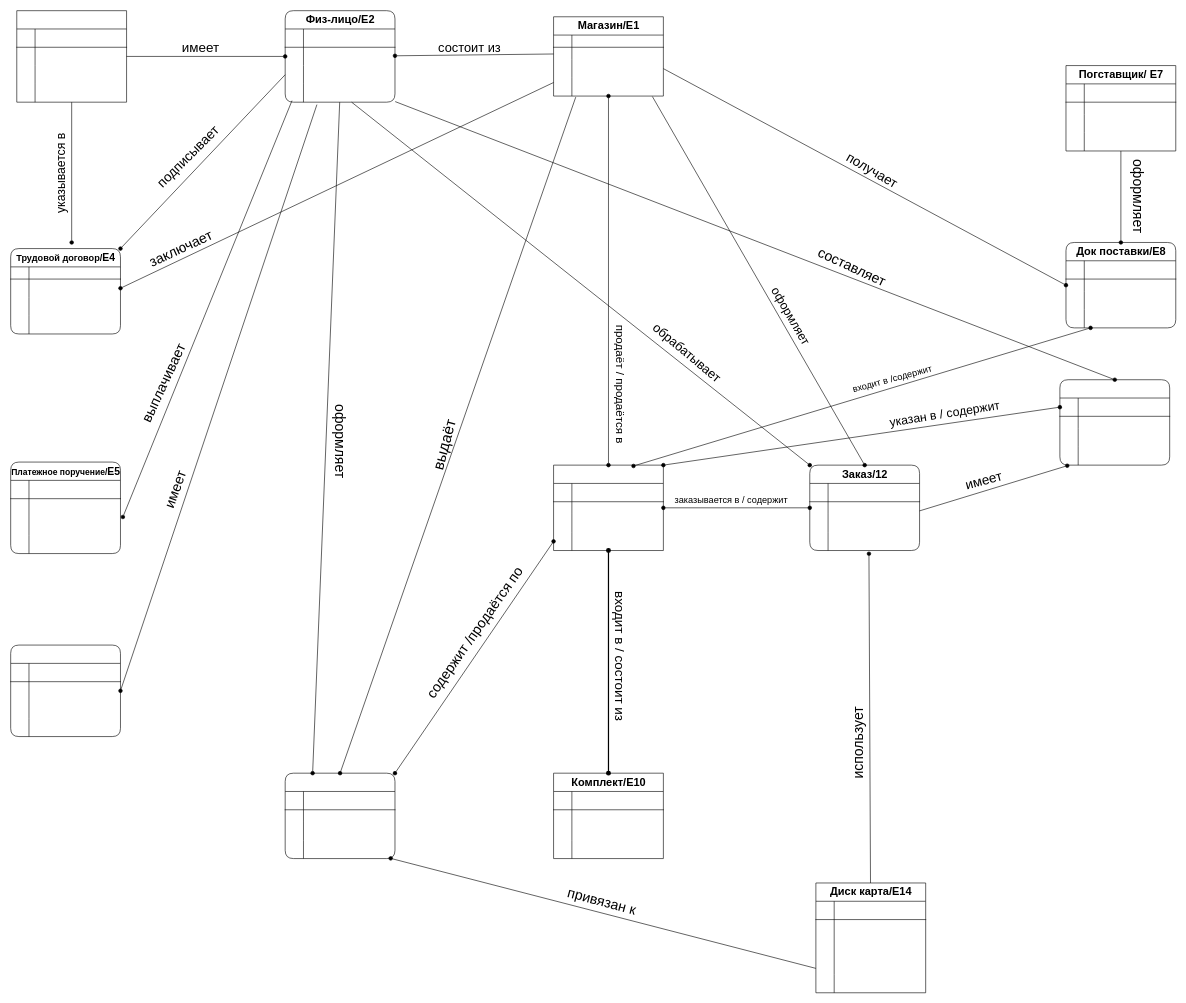
The diagram is 1186 pixels wide and 1003 high, and some of its shapes have lost their labels. The shapes that lost their labels are listed below. From the top down, each one's centre as x and y in pixels, then its label:
At (71,56): "Должность/E3".
At (1114,422): "Накладная/E13".
At (608,508): "Одежда/E9".
At (65,690): "График работы/E6".
At (340,816): "чек/E11".
